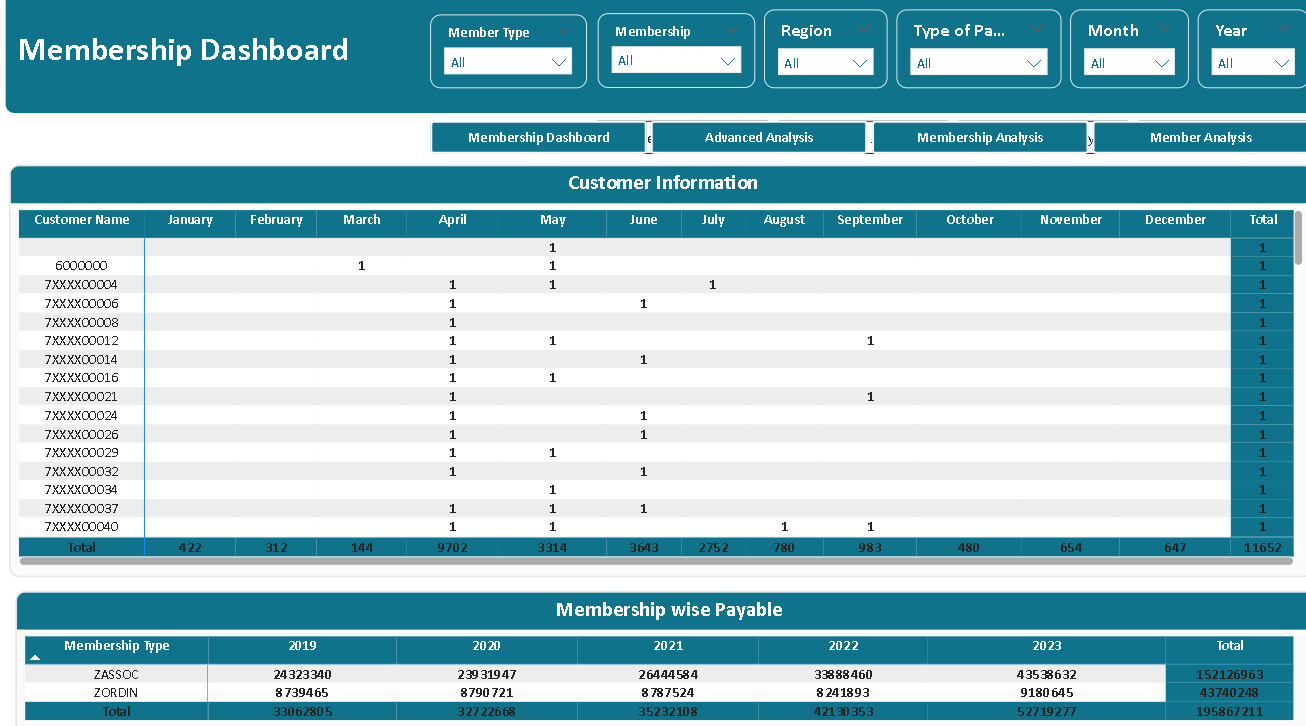

Layout of this report page (visuals, bound fields, positions):
{"tool":"powerbi","page":{"name":"Membership Dashboard","canvas":[1280,720],"ordinal":3},"visuals":[{"type":"textbox","box":[9.7,0,1270.4,118.2],"z":0},{"type":"textbox","box":[18.1,30.2,354.7,54.3],"z":1000},{"type":"slicer","fields":{"Values":["Membership POC.post_date.Variation.Date Hierarchy.Month"]},"box":[1038.7,16.9,114.6,76],"z":2000},{"type":"slicer","fields":{"Values":["Membership POC.Type of Firm"]},"box":[871.1,16.9,159.3,76],"z":3000},{"type":"slicer","fields":{"Values":["Membership POC.Region"]},"box":[743.2,16.9,119.4,76],"z":4000},{"type":"slicer","fields":{"Values":["Membership POC.post_date.Variation.Date Hierarchy.Year"]},"box":[1161.8,16.9,107.4,76],"z":5000},{"type":"slicer","fields":{"Values":["Membership POC.Member Type"]},"box":[421,21.7,150.8,71.2],"z":6000},{"type":"slicer","fields":{"Values":["Membership POC.Membership Type"]},"box":[582.7,20.5,152,72.4],"z":7000},{"type":"pageNavigator","box":[582.7,124.3,686.5,32.6],"z":8000},{"type":"pageNavigator","box":[421,124.3,848.1,32.6],"z":9000},{"type":"pivotTable","title":"Customer Information","fields":{"Rows":["Membership POC.Customer Name"],"Columns":["Membership POC.post_date.Variation.Date Hierarchy.Month"],"Values":["Count(Membership POC.Customer Name)"]},"box":[14.5,166.5,1259.5,398.1],"z":10000},{"type":"pivotTable","title":"Membership wise Payable","fields":{"Rows":["Membership POC.Membership Type"],"Columns":["Membership POC.post_date.Variation.Date Hierarchy.Year"],"Values":["Sum(Membership POC.total_payable)"]},"box":[20.5,577.9,1259.5,142.4],"z":11000}]}

Visuals, with their boxes in screenshot pixels (x1, y1, x2, y2), scaled from the page's 1280x720 canvas onto the 1306x726 screenshot:
textbox: (10, 0, 1305, 119)
textbox: (18, 30, 380, 85)
slicer - Membership POC.post_date.Variation.Date Hierarchy.Month: (1060, 17, 1177, 94)
slicer - Membership POC.Type of Firm: (889, 17, 1051, 94)
slicer - Membership POC.Region: (758, 17, 880, 94)
slicer - Membership POC.post_date.Variation.Date Hierarchy.Year: (1185, 17, 1295, 94)
slicer - Membership POC.Member Type: (430, 22, 583, 94)
slicer - Membership POC.Membership Type: (595, 21, 750, 94)
pageNavigator: (595, 125, 1295, 158)
pageNavigator: (430, 125, 1295, 158)
"Customer Information" pivotTable: (15, 168, 1300, 569)
"Membership wise Payable" pivotTable: (21, 583, 1305, 725)
